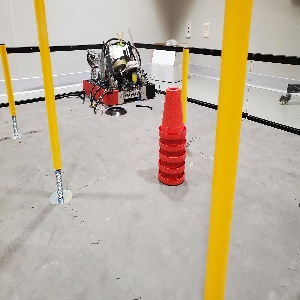Red_5: (152, 84, 185, 186)
